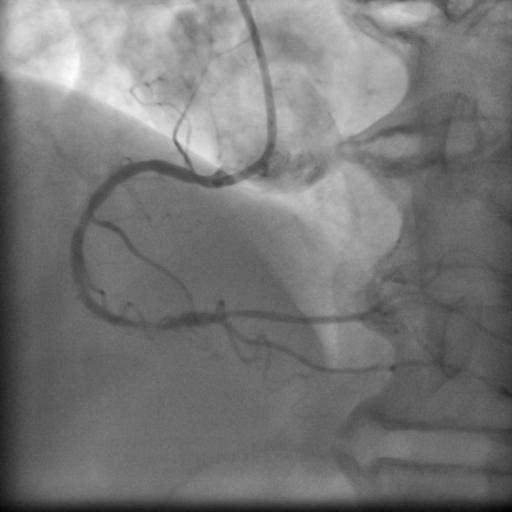Stenosis: (128, 310, 169, 336)
